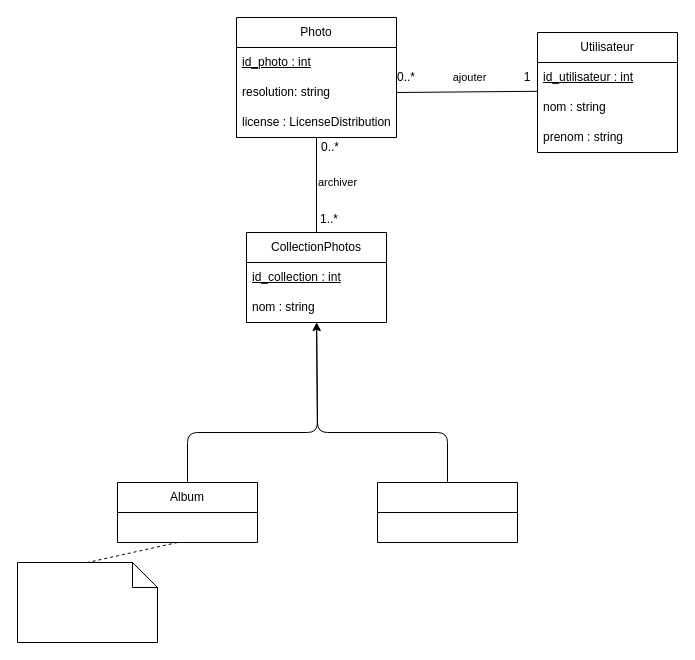
Some shapes in this 695 by 660 pixel diagram are drawn without their labels. The centre of each missing label's shape, as x and y in pixels:
"Galerie" belongs at [447,512].
"Les photos de l'album doivent appartenir au propriétaire de l'album" belongs at [87,602].
